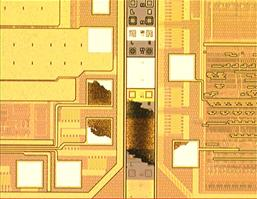BLOCK ETCH: (87, 81, 195, 167)
